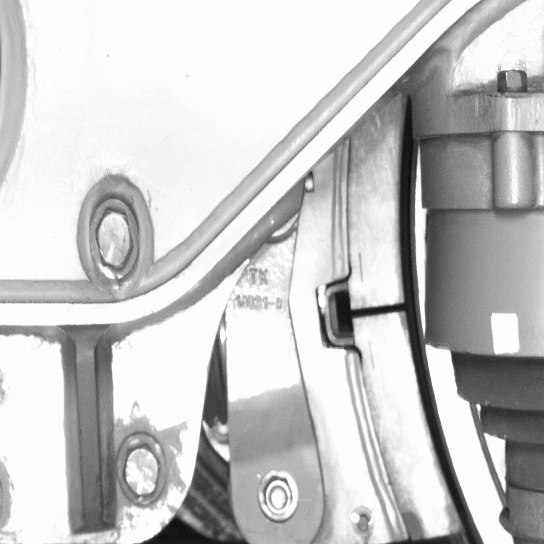KnifeSwitch: (354, 132, 488, 542)
